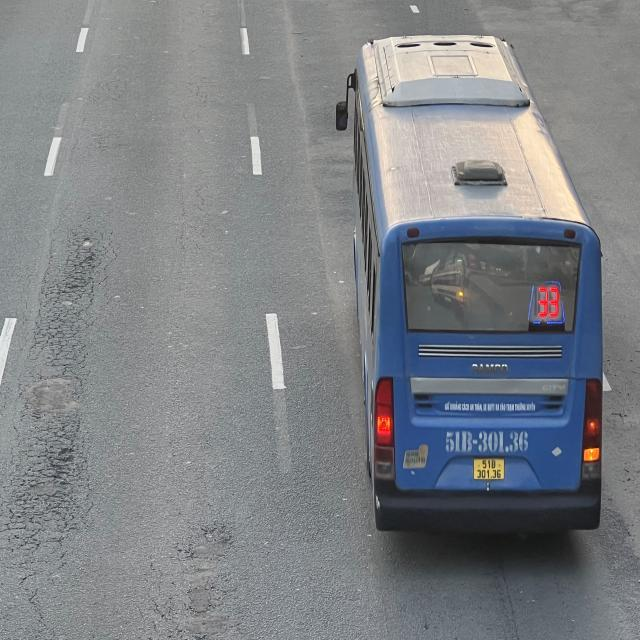coach: (337, 29, 600, 536)
